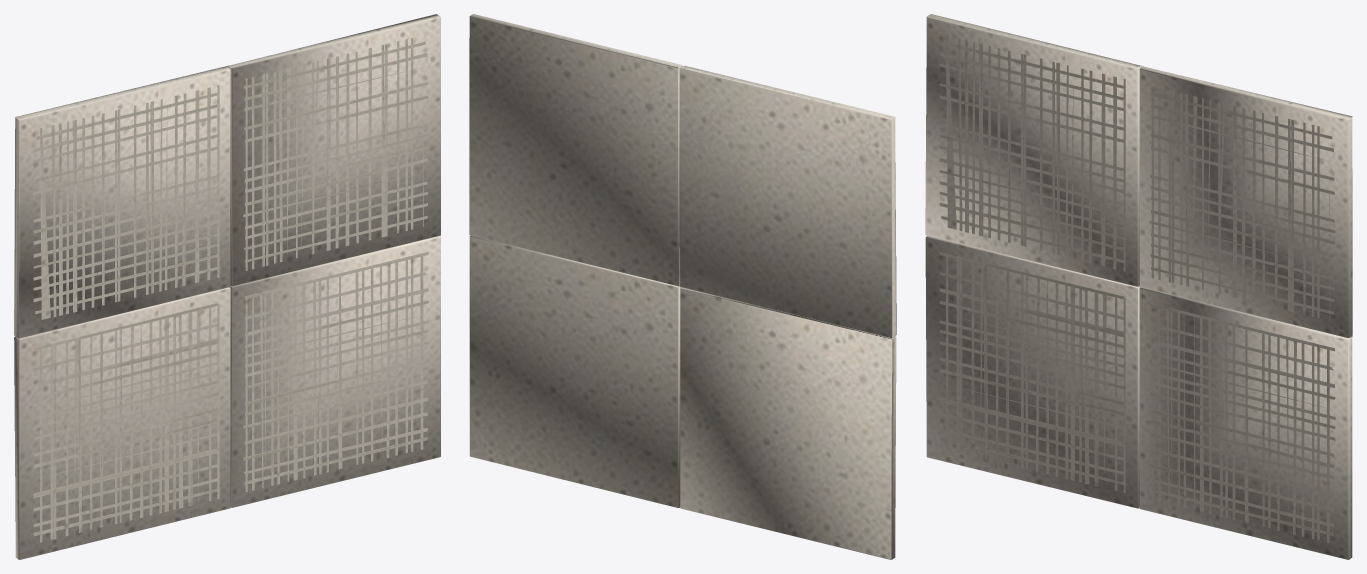
The model's file is KIT_floor_1m.glb.
3 renders of one model, left to right at view 1: azimuth 30°, elevation 25°; view 2: azimuth 150°, elevation 25°; view 3: azimuth 330°, elevation 25°, orthographic.
Size of the model in its own units: 0.958 by 0.9526 by 0.0205.
Materials: 1 (1 with a texture image).
